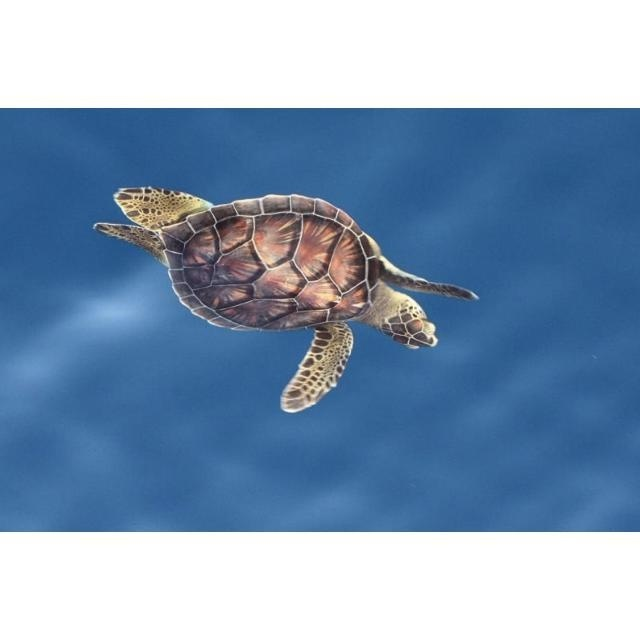turtle: (93, 188, 478, 413)
